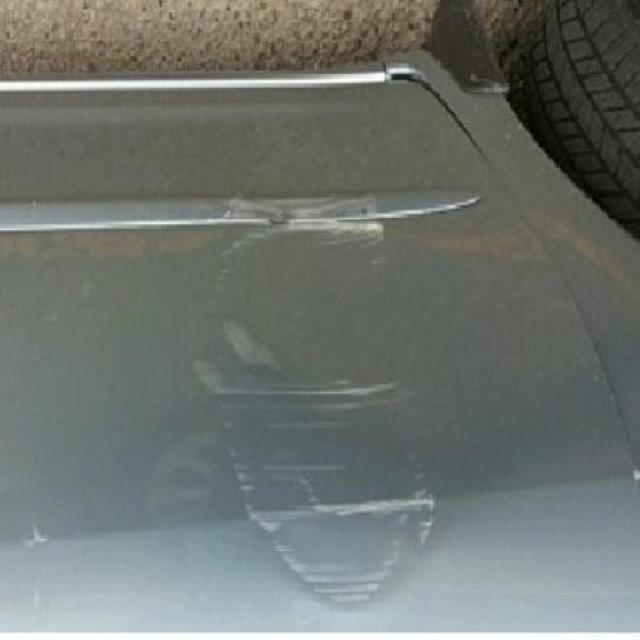scratch: (181, 190, 461, 608)
